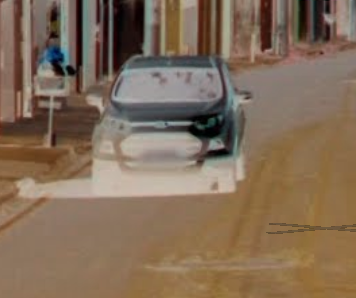car: (81, 43, 256, 197)
